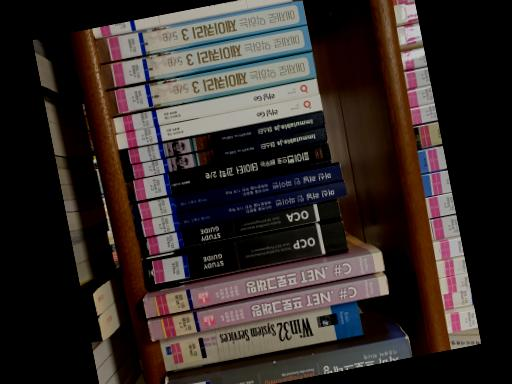book-spine: (141, 252, 385, 319), (147, 275, 388, 342), (140, 221, 348, 290), (158, 302, 363, 372), (105, 52, 316, 118), (99, 25, 311, 90), (94, 0, 306, 63), (125, 141, 330, 204), (129, 164, 342, 222), (133, 181, 345, 238), (139, 200, 340, 257), (112, 78, 318, 133), (115, 95, 321, 150), (117, 111, 324, 165), (165, 339, 410, 384), (123, 127, 327, 181), (90, 0, 291, 38)
